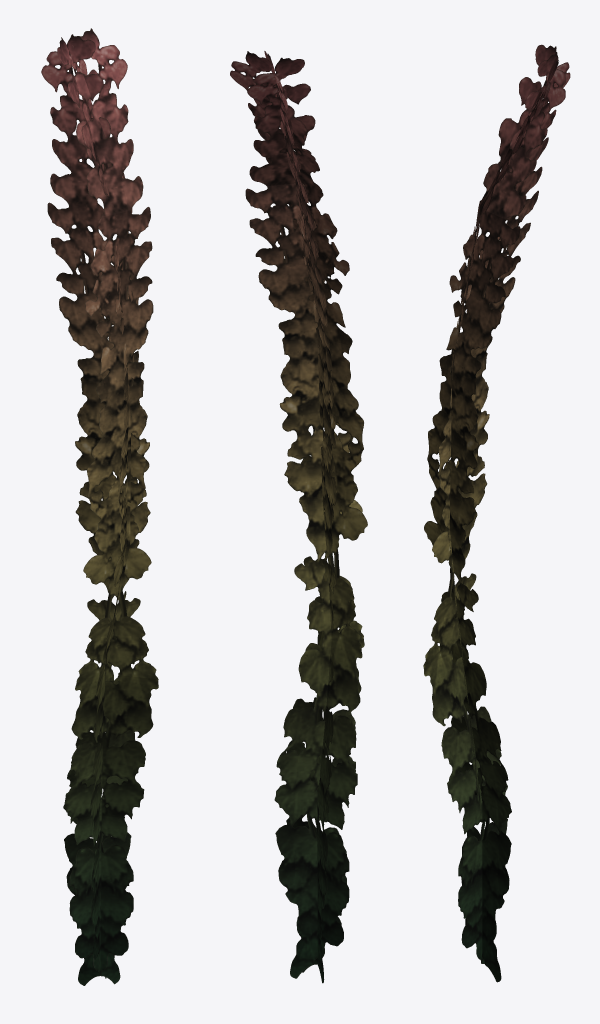
File: Model_HangingPlant_01.fbx
3 views of the same model, side by side, from view 1: azimuth 30°, elevation 25°; view 2: azimuth 150°, elevation 25°; view 3: azimuth 270°, elevation 25° (orthographic). The views are drawn at different scales.
Visible parts, largest first — view 1: Hanging_01; view 2: Hanging_01; view 3: Hanging_01.
Part boxes in pixels (x1,y1,x2,y2): Hanging_01: [41, 28, 158, 985]; Hanging_01: [230, 51, 367, 983]; Hanging_01: [423, 44, 570, 982].
Bounding box in the file's own units: 32.5 × 235 × 39.75.
